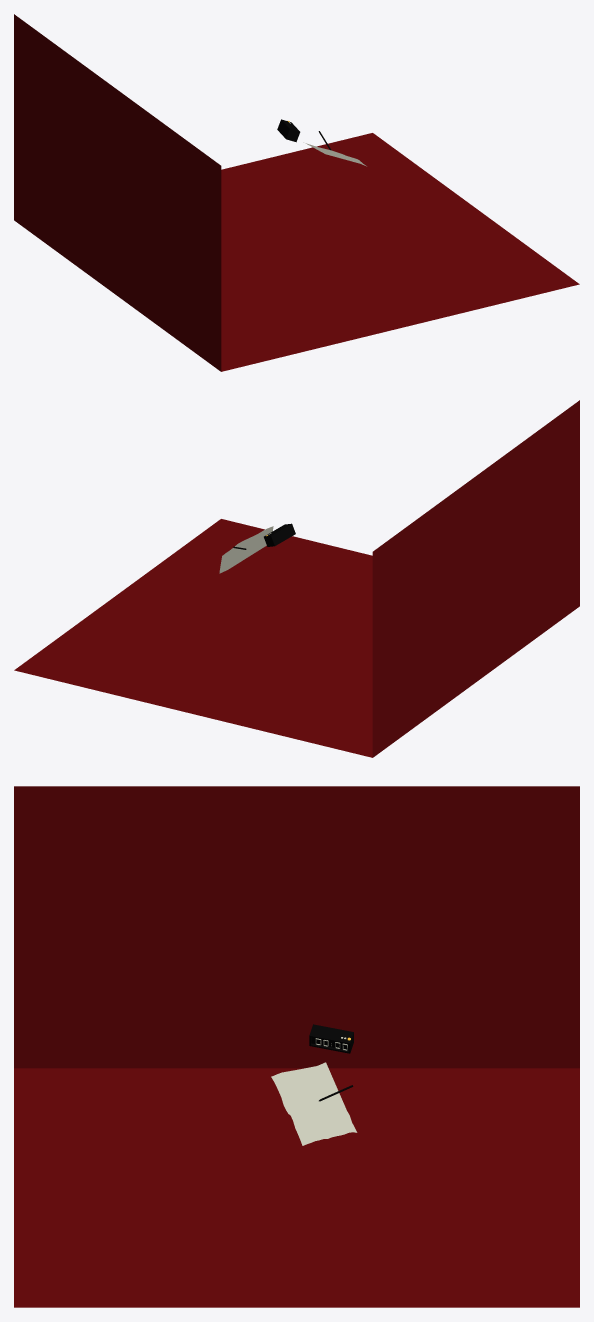
File: evaluasi.gltf
The picture shows the model from 3 angles, top to bottom: view 1: azimuth 30°, elevation 25°; view 2: azimuth 150°, elevation 25°; view 3: azimuth 270°, elevation 25°; orthographic projection. The views are drawn at different scales.
Parts seen in each view (by area): view 1: bg, object; view 2: bg, object; view 3: bg, object.
Boxes of the visible parts, box(x1,y1,x2,y2) form: bg: box(14, 14, 579, 371); object: box(277, 119, 366, 166); bg: box(14, 400, 579, 757); object: box(219, 523, 295, 573); bg: box(14, 786, 579, 1307); object: box(271, 1024, 357, 1145).
Size of the model in its own units: 8 by 4.39 by 8.
